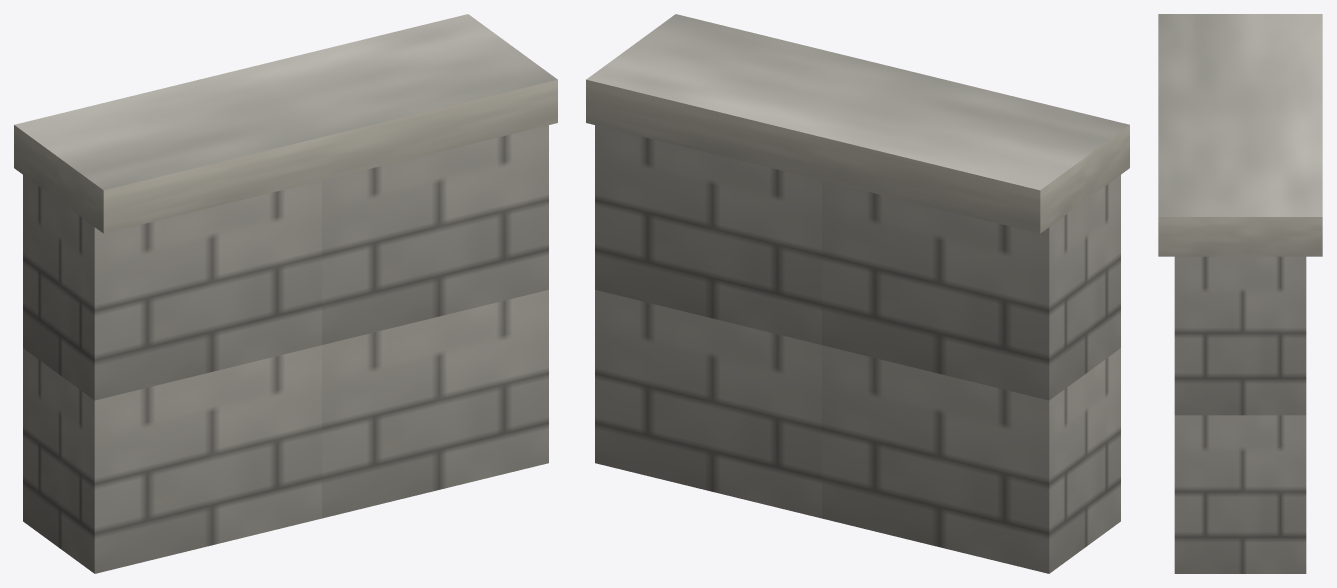
File: retaining_wall_18_01.glb
3 views of the same model, side by side, from view 1: azimuth 30°, elevation 25°; view 2: azimuth 150°, elevation 25°; view 3: azimuth 270°, elevation 25° (orthographic). The views are drawn at different scales.
Visible parts, largest first — view 1: retaining_wall_18_01; view 2: retaining_wall_18_01; view 3: retaining_wall_18_01.
Part boxes in pixels (x1,y1,x2,y2): retaining_wall_18_01: [14, 14, 557, 573]; retaining_wall_18_01: [586, 14, 1129, 573]; retaining_wall_18_01: [1158, 14, 1322, 573].
Size of the model in its own units: 2.19 by 1.8 by 0.75.
Materials: 1 (1 with a texture image).
